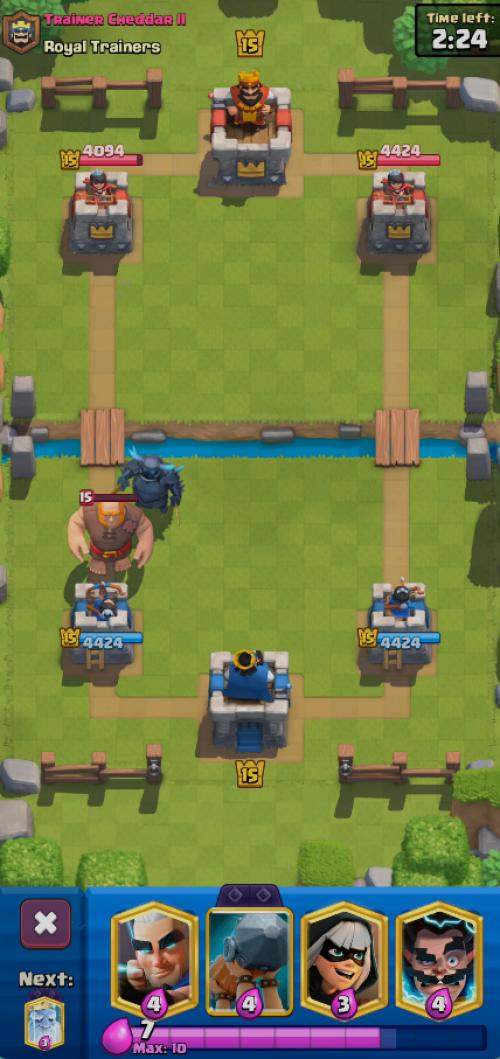Enemy-Giant: (69, 501, 153, 575)
Enemy-KingTower: (211, 71, 291, 187)
Enemy-PrincessTower: (367, 169, 429, 254), (69, 170, 132, 253)
